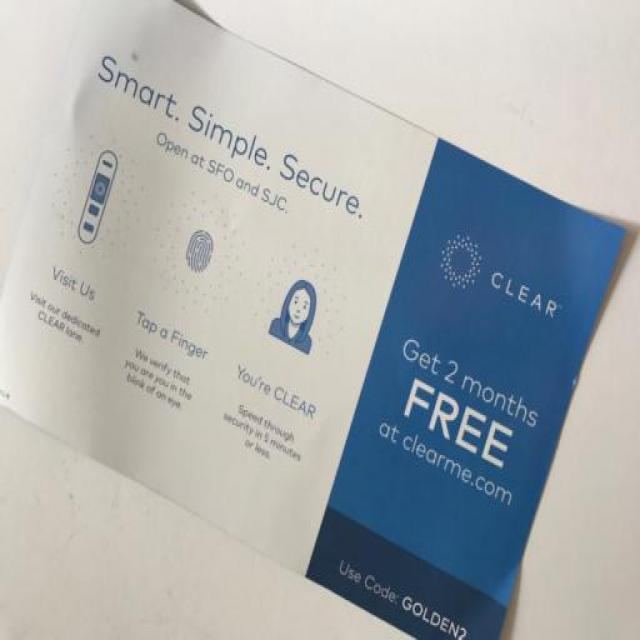paper: (5, 6, 631, 640)
